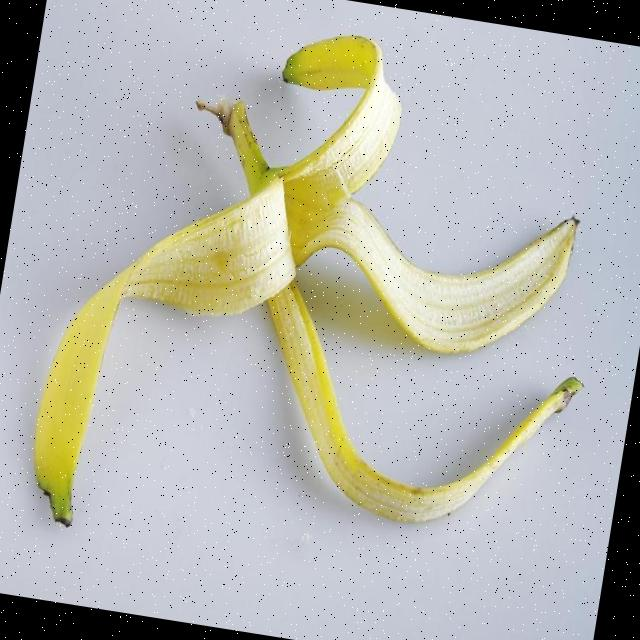banana-peel: (19, 0, 633, 602)
